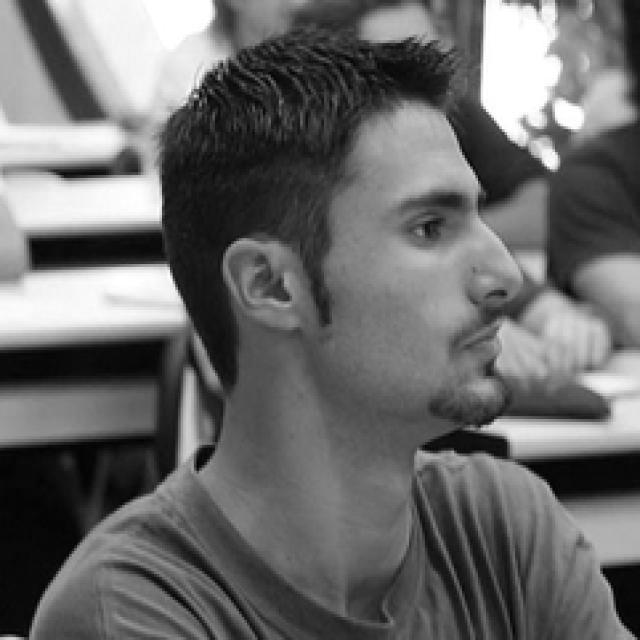Looking forward: (295, 97, 531, 431)
